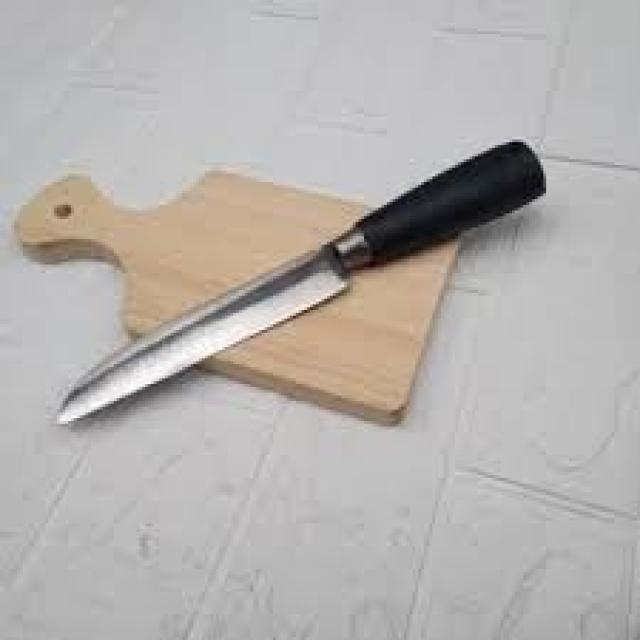Knife: (63, 142, 543, 421)
